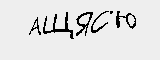А: (27, 15, 42, 39)
С: (89, 5, 113, 37)
Щ: (41, 9, 73, 40)
Ю: (113, 8, 138, 31)
Я: (73, 10, 93, 37)
